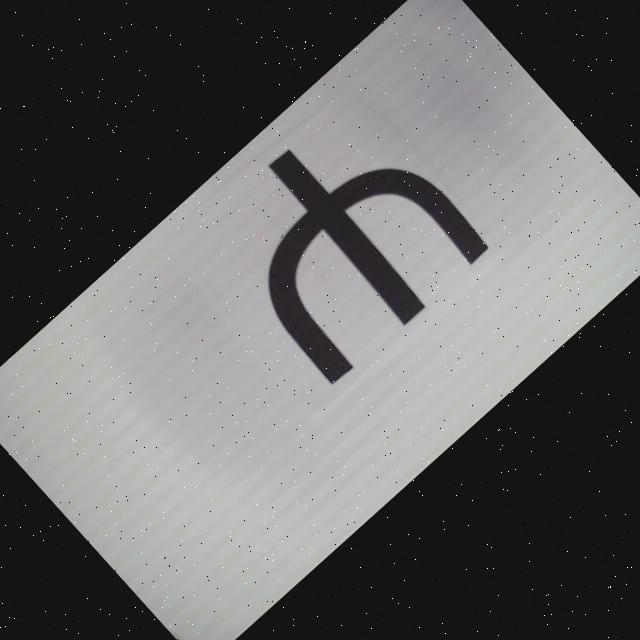PSI: (193, 90, 492, 389)
